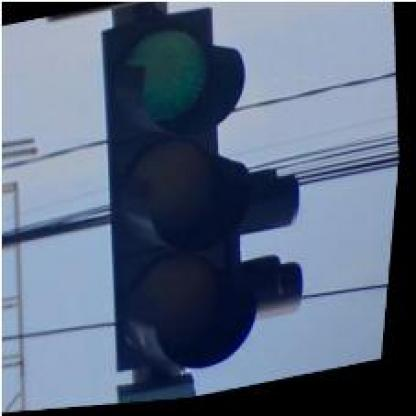green: (80, 0, 287, 389)
